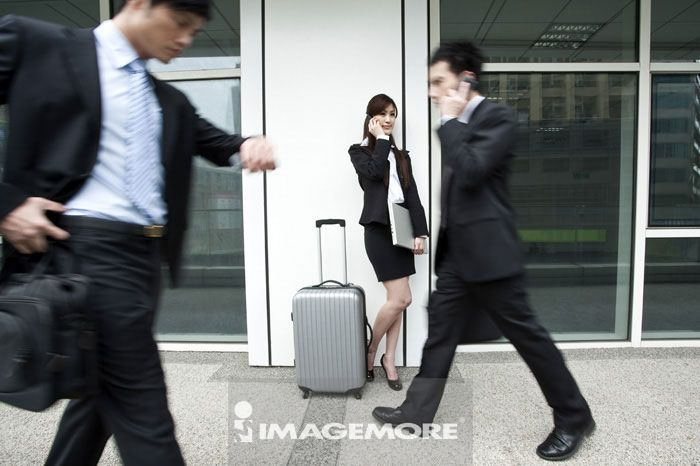talk: (365, 110, 395, 137)
